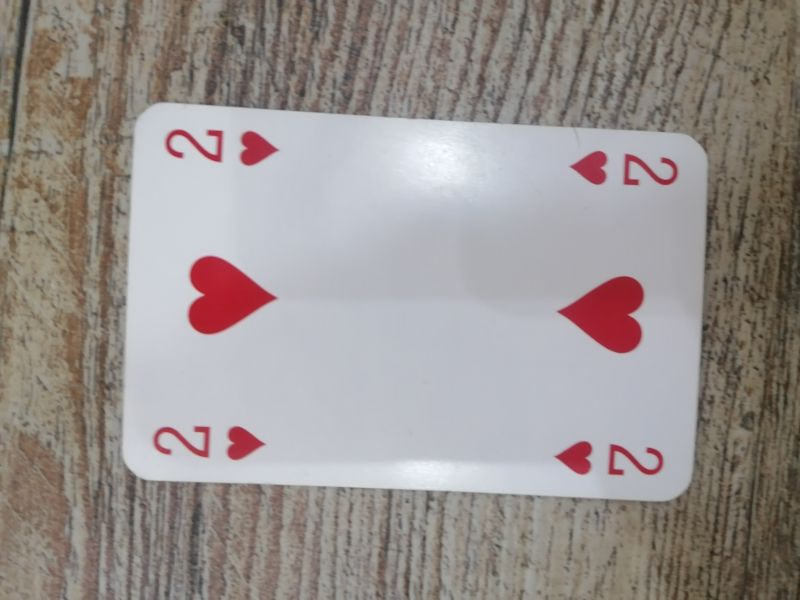2h: (162, 123, 284, 171), (567, 147, 682, 191), (152, 421, 270, 463), (553, 438, 667, 481)
